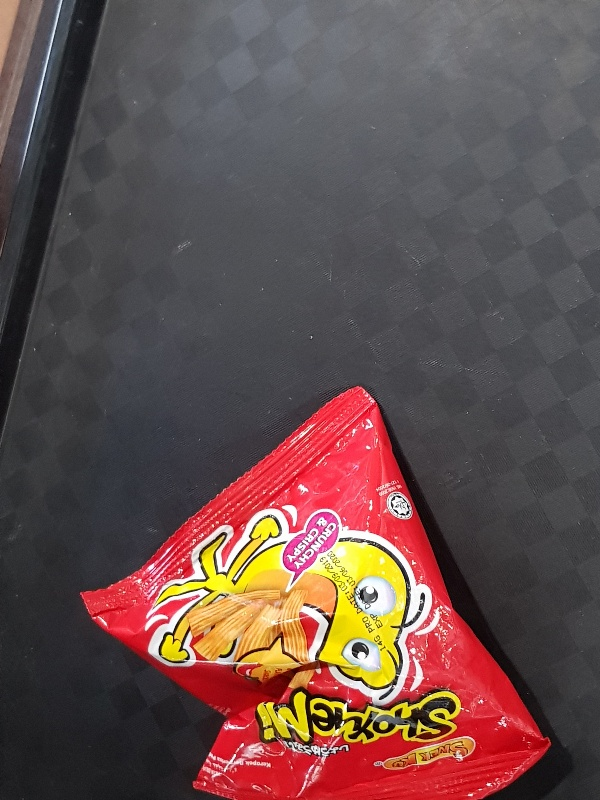ShoyueMi Spicy Flavoured Snacks: (77, 382, 552, 800)
